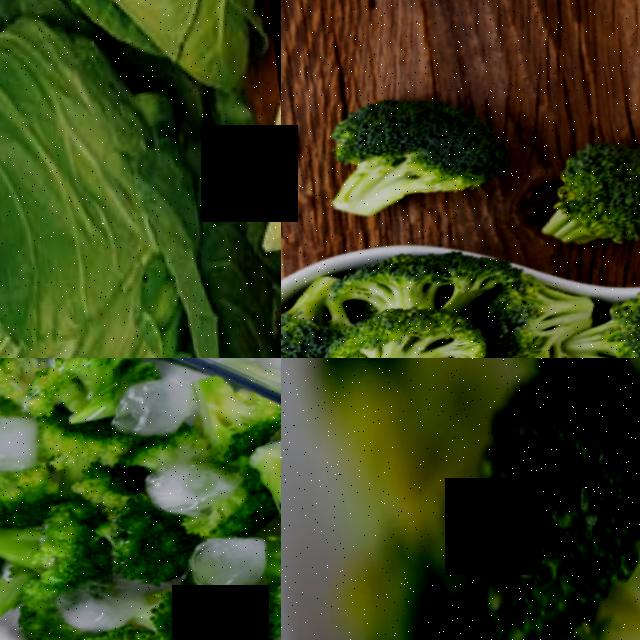broccoli: (437, 358, 640, 640), (281, 53, 513, 253), (515, 103, 640, 268), (89, 481, 198, 602), (315, 291, 491, 358), (171, 358, 277, 462), (0, 497, 96, 587), (25, 358, 143, 419), (50, 593, 189, 640), (281, 268, 338, 358), (248, 395, 281, 542), (573, 288, 640, 358), (251, 527, 281, 640)
cabbage: (0, 0, 281, 358)
